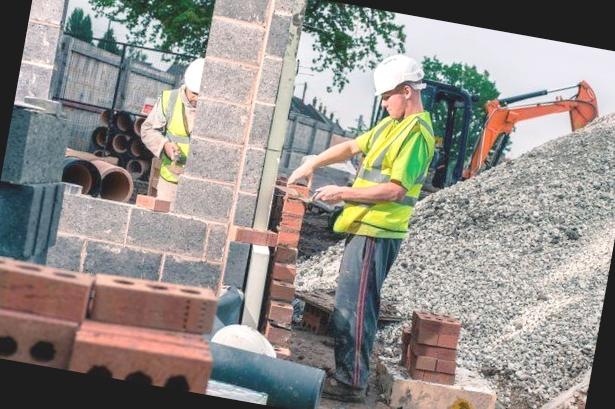helmet: (362, 45, 435, 110)
person: (299, 44, 445, 408)
